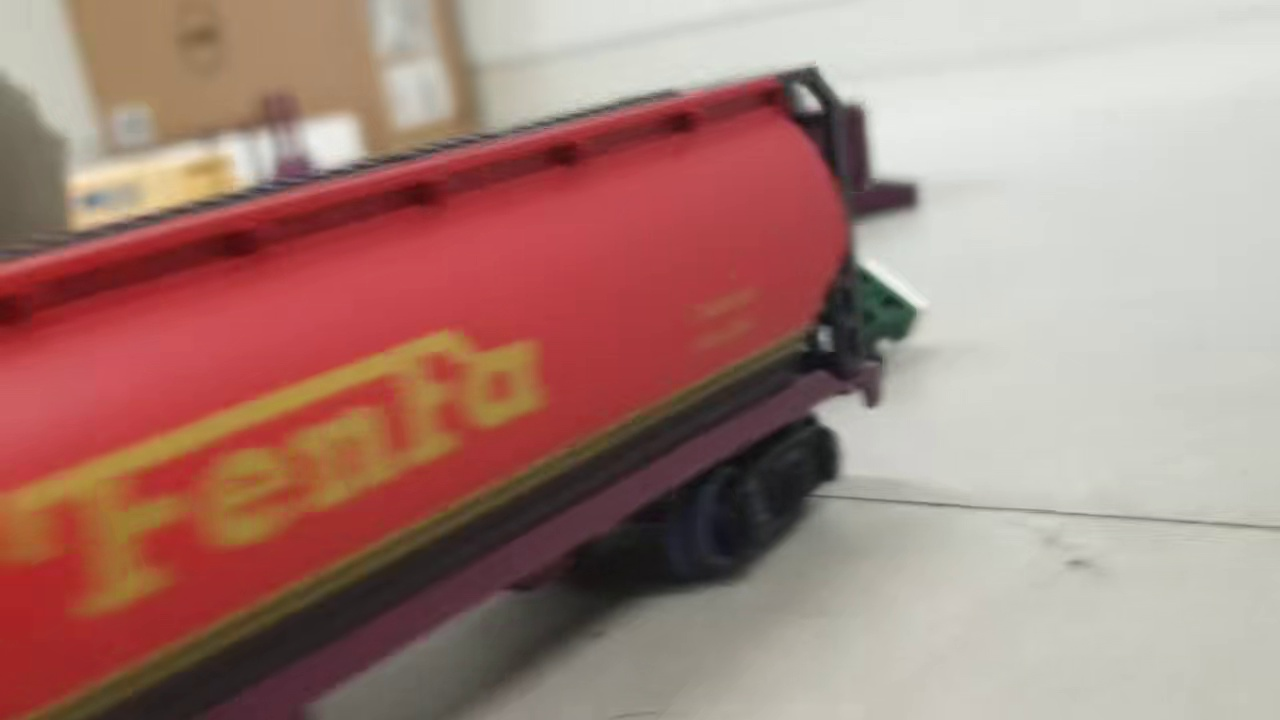people: (817, 254, 927, 365)
